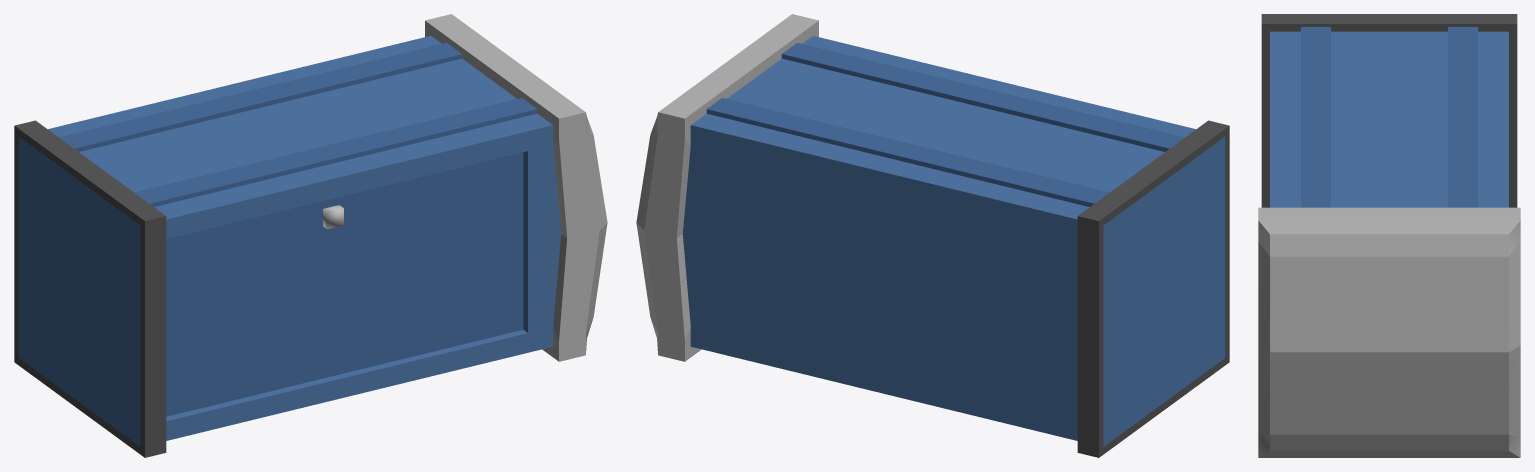
Rendered from WCBroke.fbx.
3 views of the same model, side by side, from view 1: azimuth 30°, elevation 25°; view 2: azimuth 150°, elevation 25°; view 3: azimuth 270°, elevation 25° (orthographic). The views are drawn at different scales.
Visible parts, largest first — view 1: WC_01__1__fracturepart4_2, WC_01__1__fracturepart3_2, WC_01__1__fracturepart6_3, WC_01__1__fracturepart20_2, WC_01__1__fracturepart8_2, WC_01__1__fracturepart19_3, WC_01__1__fracturepart12_2, WC_01__1__fracturepart9_3, WC_01__1__fracturepart10, WC_01__1__fracturepart17_2, WC_01__1__fracturepart11, WC_01__1__fracturepart1_2 (+10 smaller); view 2: WC_01__1__fracturepart19_3, WC_01__1__fracturepart7, WC_01__1__fracturepart1_2, WC_01__1__fracturepart16, WC_01__1__fracturepart9_3, WC_01__1__fracturepart13_2, WC_01__1__fracturepart5_3, WC_01__1__fracturepart15_3, WC_01__1__fracturepart2_2, WC_01__1__fracturepart8_2, WC_01__1__fracturepart4_2, WC_01__1__fracturepart14_3 (+13 smaller); view 3: WC_01__1__fracturepart14_3, WC_01__1__fracturepart10, WC_01__1__fracturepart1_2, WC_01__1__fracturepart4_2, WC_01__1__fracturepart19_3, WC_01__1__fracturepart9_3, WC_01__1__fracturepart5_3, WC_01__1__fracturepart8_2, WC_01__1__fracturepart20_2, WC_01__1__fracturepart9_2, WC_01__1__fracturepart3_2, WC_01__1__fracturepart19_2 (+9 smaller).
Boxes of the visible parts, box(x1,y1,x2,y2) form: WC_01__1__fracturepart4_2: box(386, 63, 601, 265); WC_01__1__fracturepart3_2: box(262, 157, 429, 364); WC_01__1__fracturepart6_3: box(351, 228, 585, 395); WC_01__1__fracturepart20_2: box(154, 166, 289, 403); WC_01__1__fracturepart8_2: box(94, 193, 210, 418); WC_01__1__fracturepart19_3: box(14, 99, 196, 253); WC_01__1__fracturepart12_2: box(50, 331, 277, 457); WC_01__1__fracturepart9_3: box(187, 64, 431, 160); WC_01__1__fracturepart10: box(503, 187, 607, 351); WC_01__1__fracturepart17_2: box(258, 281, 355, 413); WC_01__1__fracturepart11: box(32, 238, 96, 358); WC_01__1__fracturepart1_2: box(313, 14, 517, 82); WC_01__1__fracturepart19_3: box(951, 143, 1196, 307); WC_01__1__fracturepart7: box(644, 182, 868, 321); WC_01__1__fracturepart1_2: box(636, 63, 813, 234); WC_01__1__fracturepart16: box(898, 207, 1116, 347); WC_01__1__fracturepart9_3: box(809, 65, 994, 244); WC_01__1__fracturepart13_2: box(883, 310, 1057, 435); WC_01__1__fracturepart5_3: box(851, 110, 1074, 325); WC_01__1__fracturepart15_3: box(725, 299, 884, 393); WC_01__1__fracturepart2_2: box(1049, 311, 1142, 457); WC_01__1__fracturepart8_2: box(1178, 120, 1229, 322); WC_01__1__fracturepart4_2: box(725, 14, 933, 117); WC_01__1__fracturepart14_3: box(636, 222, 732, 361); WC_01__1__fracturepart14_3: box(1262, 323, 1520, 457); WC_01__1__fracturepart10: box(1258, 238, 1419, 456); WC_01__1__fracturepart1_2: box(1389, 161, 1520, 351); WC_01__1__fracturepart4_2: box(1258, 160, 1435, 322); WC_01__1__fracturepart19_3: box(1323, 14, 1517, 97); WC_01__1__fracturepart9_3: box(1270, 101, 1508, 178); WC_01__1__fracturepart5_3: box(1331, 70, 1508, 116); WC_01__1__fracturepart8_2: box(1261, 14, 1325, 207); WC_01__1__fracturepart20_2: box(1270, 32, 1362, 90); WC_01__1__fracturepart9_2: box(1448, 97, 1477, 171); WC_01__1__fracturepart3_2: box(1270, 87, 1300, 154); WC_01__1__fracturepart19_2: box(1448, 27, 1477, 84).
Size of the model in its own units: 221 by 110 by 110.
Materials: 1 (1 with a texture image).
